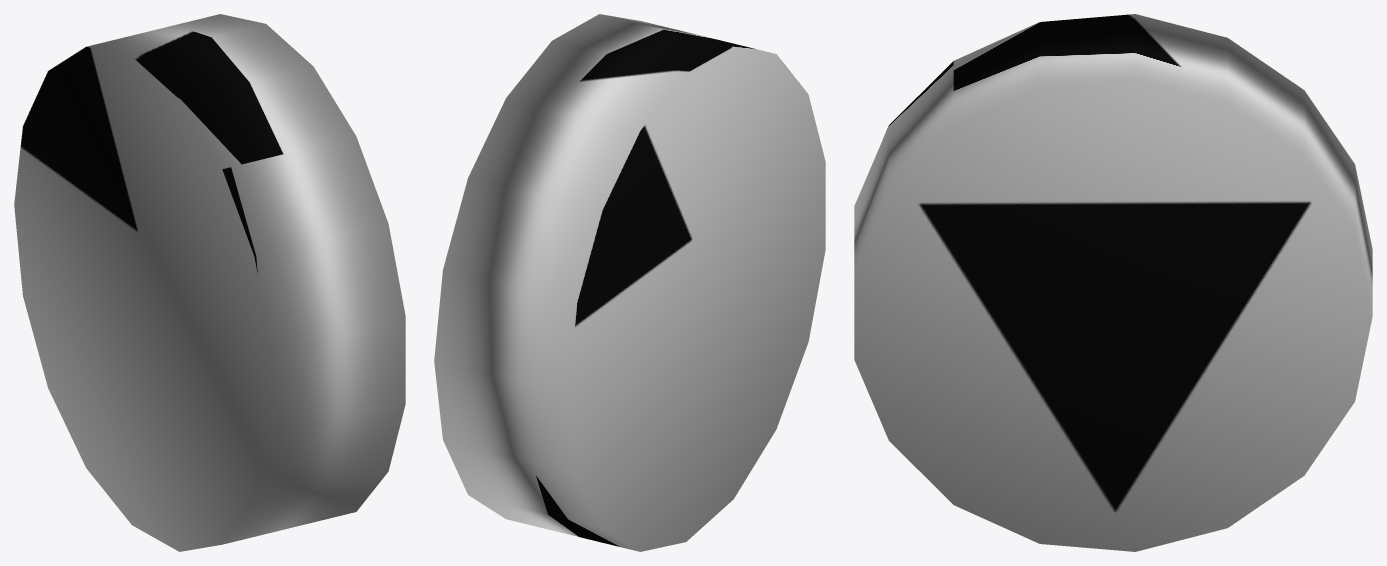
File: BotonBajar.fbx
3 renders of one model, left to right at view 1: azimuth 30°, elevation 25°; view 2: azimuth 150°, elevation 25°; view 3: azimuth 270°, elevation 25°, orthographic.
Visible parts, largest first — view 1: BotonBajar; view 2: BotonBajar; view 3: BotonBajar.
Boxes of the visible parts, x1,y1,x2,y2 form: BotonBajar: (14,14,405,551); BotonBajar: (434,14,825,551); BotonBajar: (854,14,1372,551).
Bounding box in the file's own units: 1.94 × 6.47 × 6.44.
